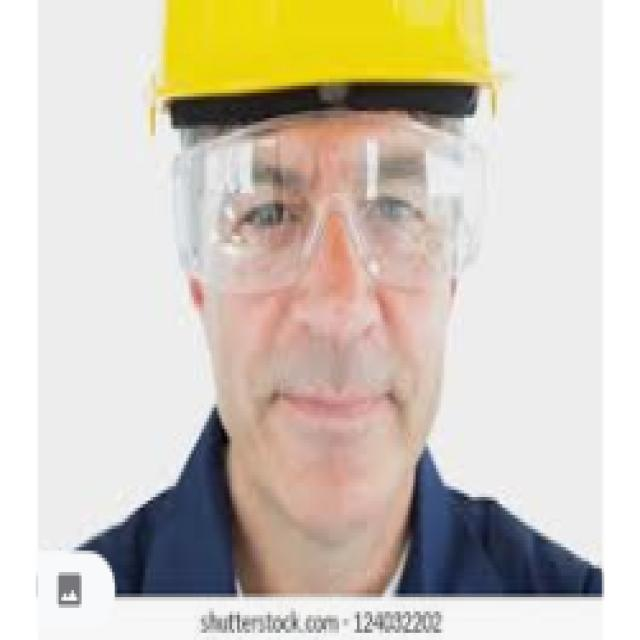glasses: (170, 119, 510, 296)
